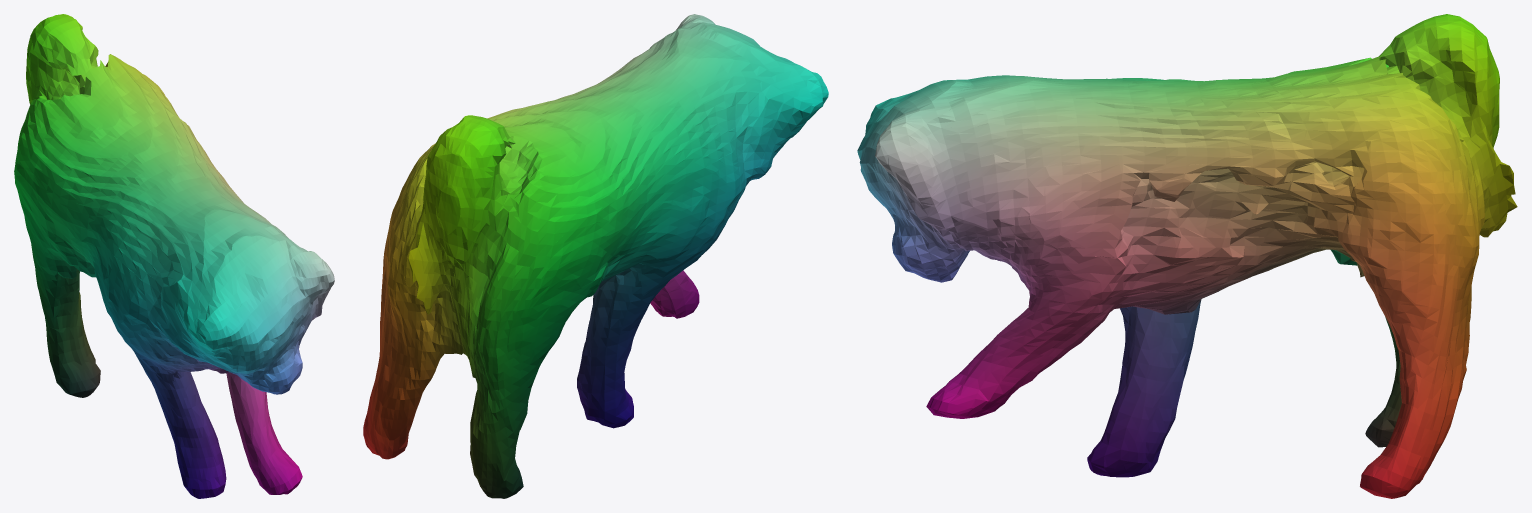
File: shiba-haru-1001-mesh-00015.obj
3 views of the same model, side by side, from view 1: azimuth 30°, elevation 25°; view 2: azimuth 150°, elevation 25°; view 3: azimuth 270°, elevation 25° (orthographic). The views are drawn at different scales.
Size of the model in its own units: 0.0548 by 0.0911 by 0.1204.
